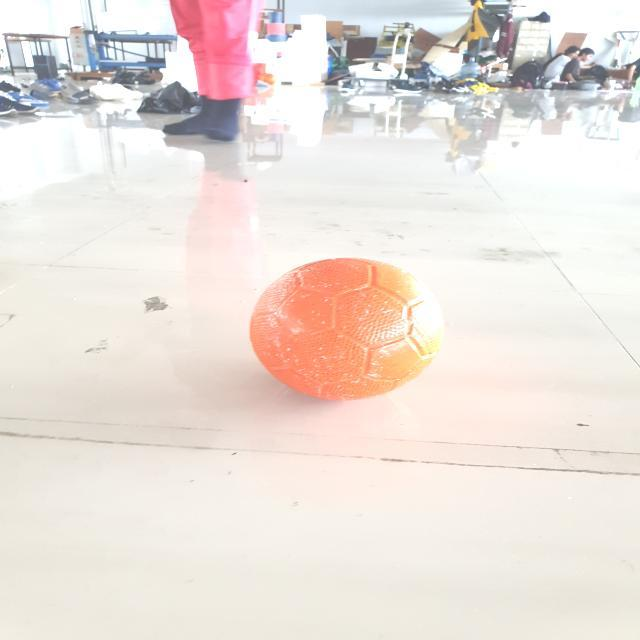bola: (247, 256, 454, 408)
